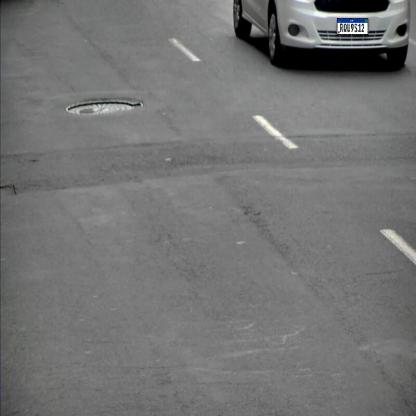PlacaM: (337, 18, 368, 35)
